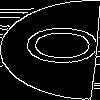O: (25, 25, 100, 66)
